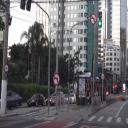NoVirarEsquerda: (53, 72, 60, 86), (90, 13, 97, 26)
speed_limit_50: (101, 74, 105, 80)
